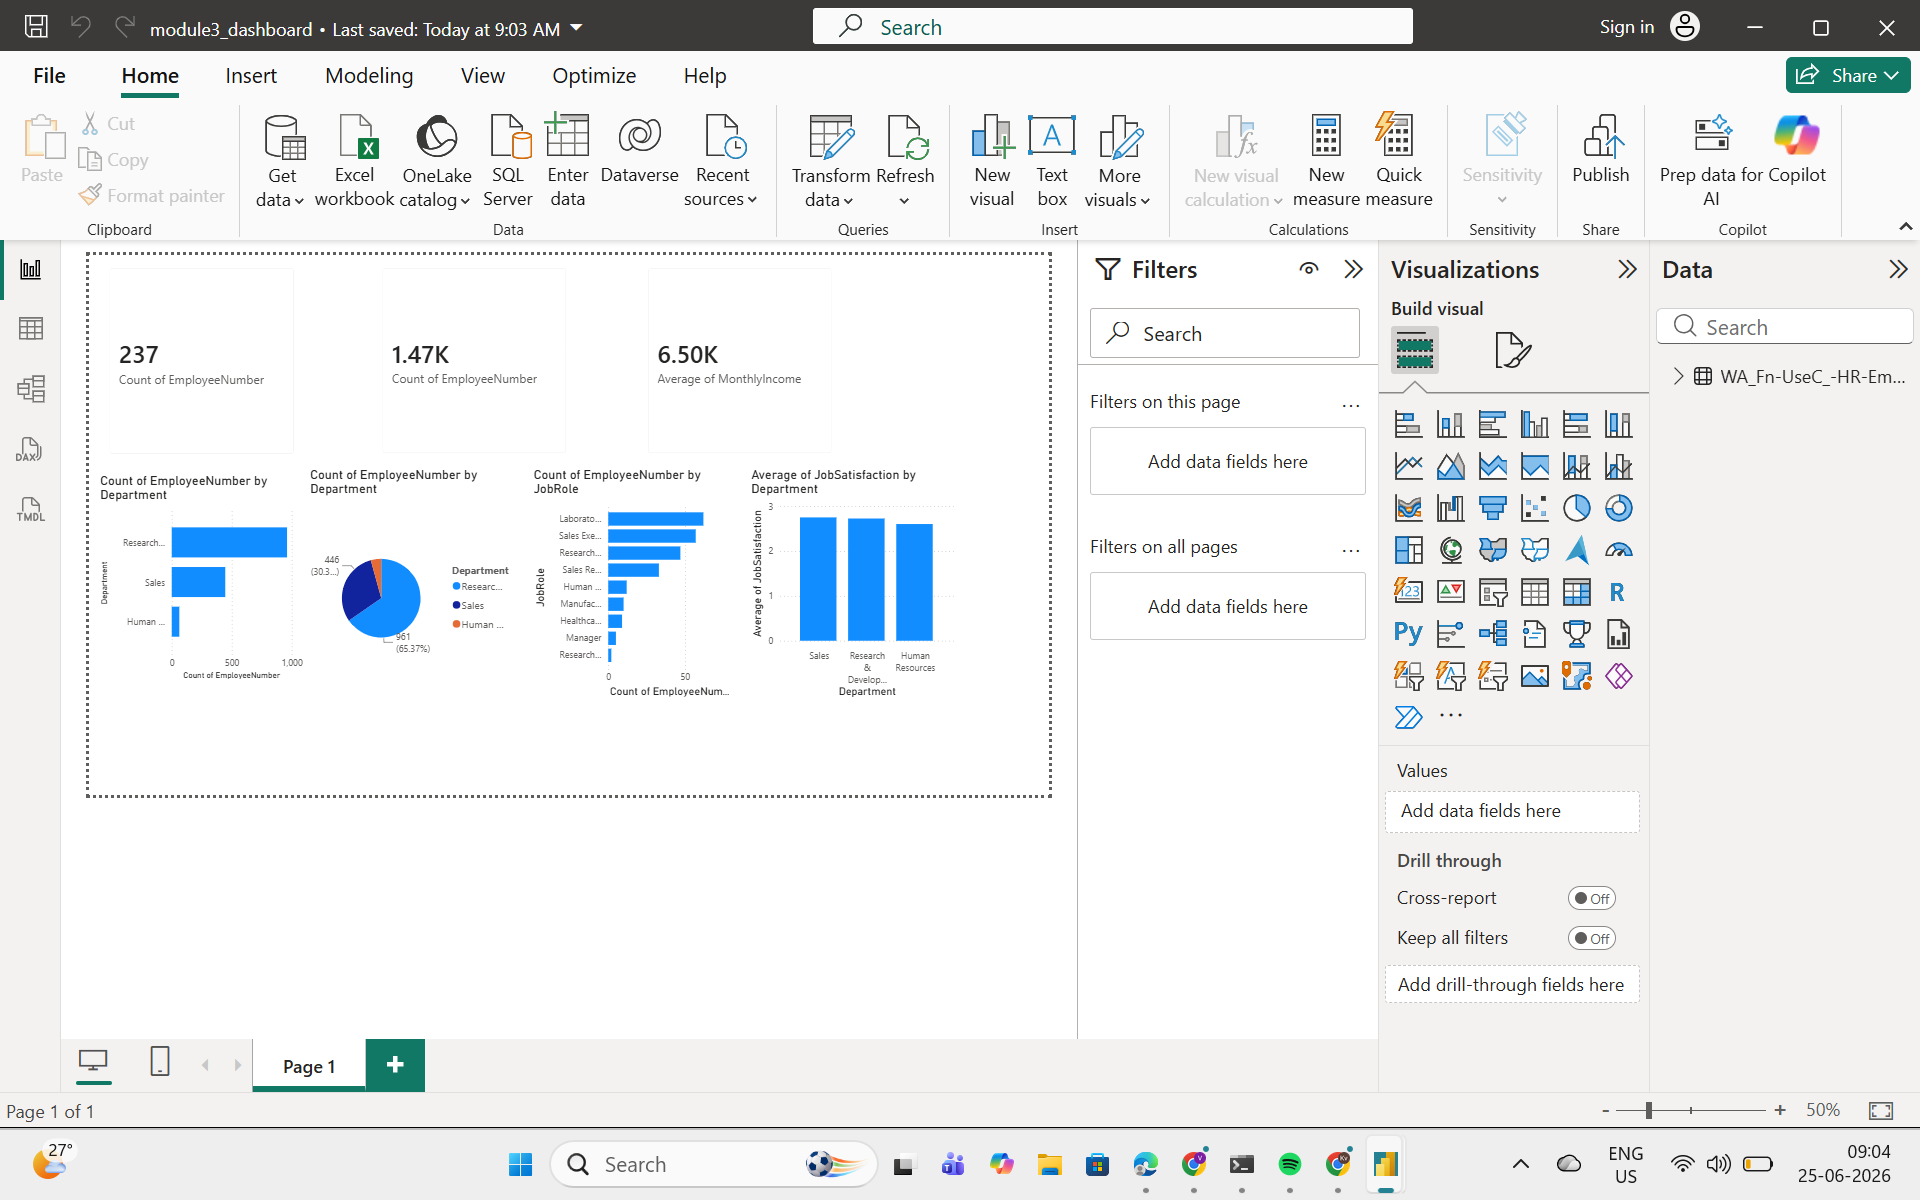

This screenshot's page, from the dashboard's own definition file:
{"tool":"powerbi","page":{"name":"Page 1","canvas":[1280,720],"ordinal":0},"visuals":[{"type":"cardVisual","fields":{"Data":["CountNonNull(WA_Fn-UseC_-HR-Employee-Attrition.EmployeeNumber)"]},"box":[374.2,0,279.7,281.6],"z":0},{"type":"cardVisual","fields":{"Data":["Avg(WA_Fn-UseC_-HR-Employee-Attrition.MonthlyIncome)"]},"box":[727.6,0,279.7,281.6],"z":1000},{"type":"clusteredBarChart","fields":{"Category":["WA_Fn-UseC_-HR-Employee-Attrition.Department"],"Y":["CountNonNull(WA_Fn-UseC_-HR-Employee-Attrition.EmployeeNumber)"]},"box":[10,290,280,280],"z":2000},{"type":"pieChart","fields":{"Y":["CountNonNull(WA_Fn-UseC_-HR-Employee-Attrition.EmployeeNumber)"],"Category":["WA_Fn-UseC_-HR-Employee-Attrition.Department"]},"box":[289.1,281.6,279.7,311.8],"z":3000},{"type":"cardVisual","fields":{"Data":["CountNonNull(WA_Fn-UseC_-HR-Employee-Attrition.EmployeeNumber)"]},"box":[10,0,280,282],"z":4000},{"type":"clusteredBarChart","fields":{"Y":["CountNonNull(WA_Fn-UseC_-HR-Employee-Attrition.EmployeeNumber)"],"Category":["WA_Fn-UseC_-HR-Employee-Attrition.JobRole"]},"box":[587.7,281.6,279.7,311.8],"z":5000},{"type":"clusteredColumnChart","fields":{"Category":["WA_Fn-UseC_-HR-Employee-Attrition.Department"],"Y":["Avg(WA_Fn-UseC_-HR-Employee-Attrition.JobSatisfaction)"]},"box":[878,282,280,312],"z":6000}]}

Visuals, with their boxes on the page's 1280x720 design canvas (x1, y1, x2, y2). These are canvas units, not pixel positions in the 1920x1200 screenshot, which may show the page scaled, cropped or inside an application window:
cardVisual - CountNonNull(WA_Fn-UseC_-HR-Employee-Attrition.EmployeeNumber): detection(374, 0, 654, 282)
cardVisual - Avg(WA_Fn-UseC_-HR-Employee-Attrition.MonthlyIncome): detection(728, 0, 1007, 282)
clusteredBarChart - WA_Fn-UseC_-HR-Employee-Attrition.Department x CountNonNull(WA_Fn-UseC_-HR-Employee-Attrition.EmployeeNumber): detection(10, 290, 290, 570)
pieChart - CountNonNull(WA_Fn-UseC_-HR-Employee-Attrition.EmployeeNumber) x WA_Fn-UseC_-HR-Employee-Attrition.Department: detection(289, 282, 569, 593)
cardVisual - CountNonNull(WA_Fn-UseC_-HR-Employee-Attrition.EmployeeNumber): detection(10, 0, 290, 282)
clusteredBarChart - CountNonNull(WA_Fn-UseC_-HR-Employee-Attrition.EmployeeNumber) x WA_Fn-UseC_-HR-Employee-Attrition.JobRole: detection(588, 282, 867, 593)
clusteredColumnChart - WA_Fn-UseC_-HR-Employee-Attrition.Department x Avg(WA_Fn-UseC_-HR-Employee-Attrition.JobSatisfaction): detection(878, 282, 1158, 594)
